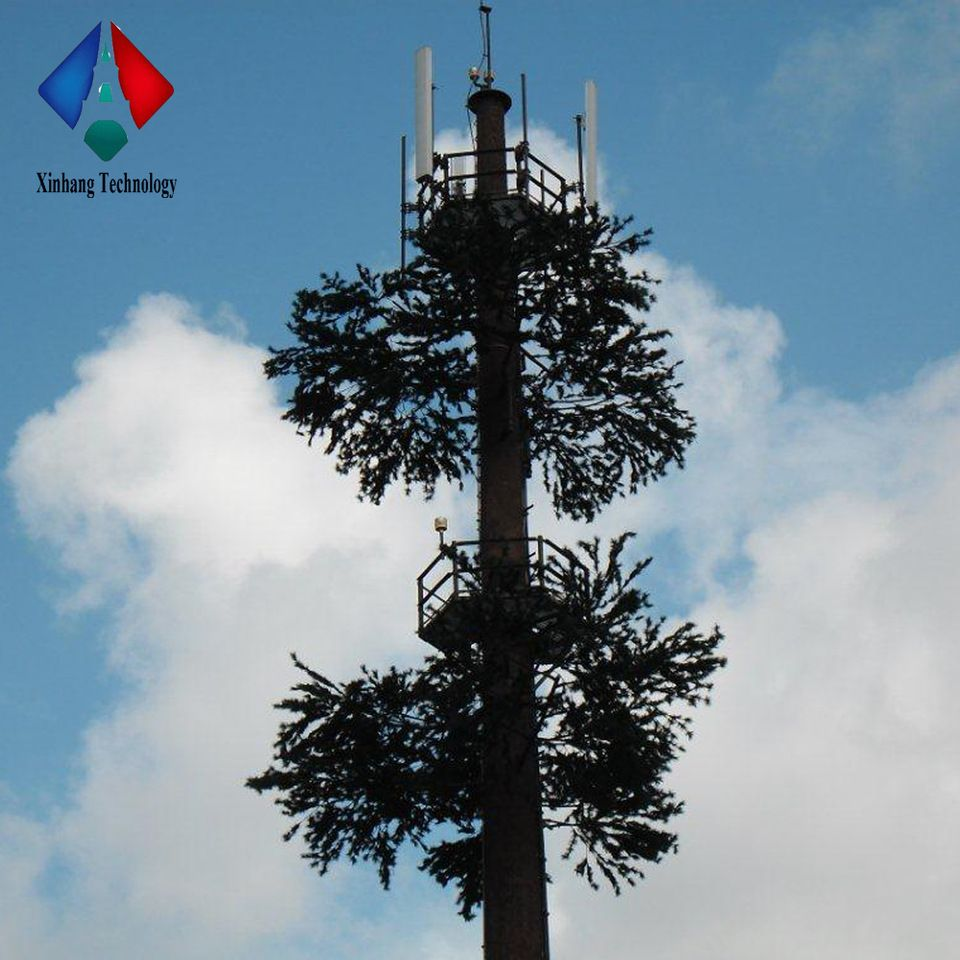a: (413, 44, 438, 180), (583, 86, 600, 209)
